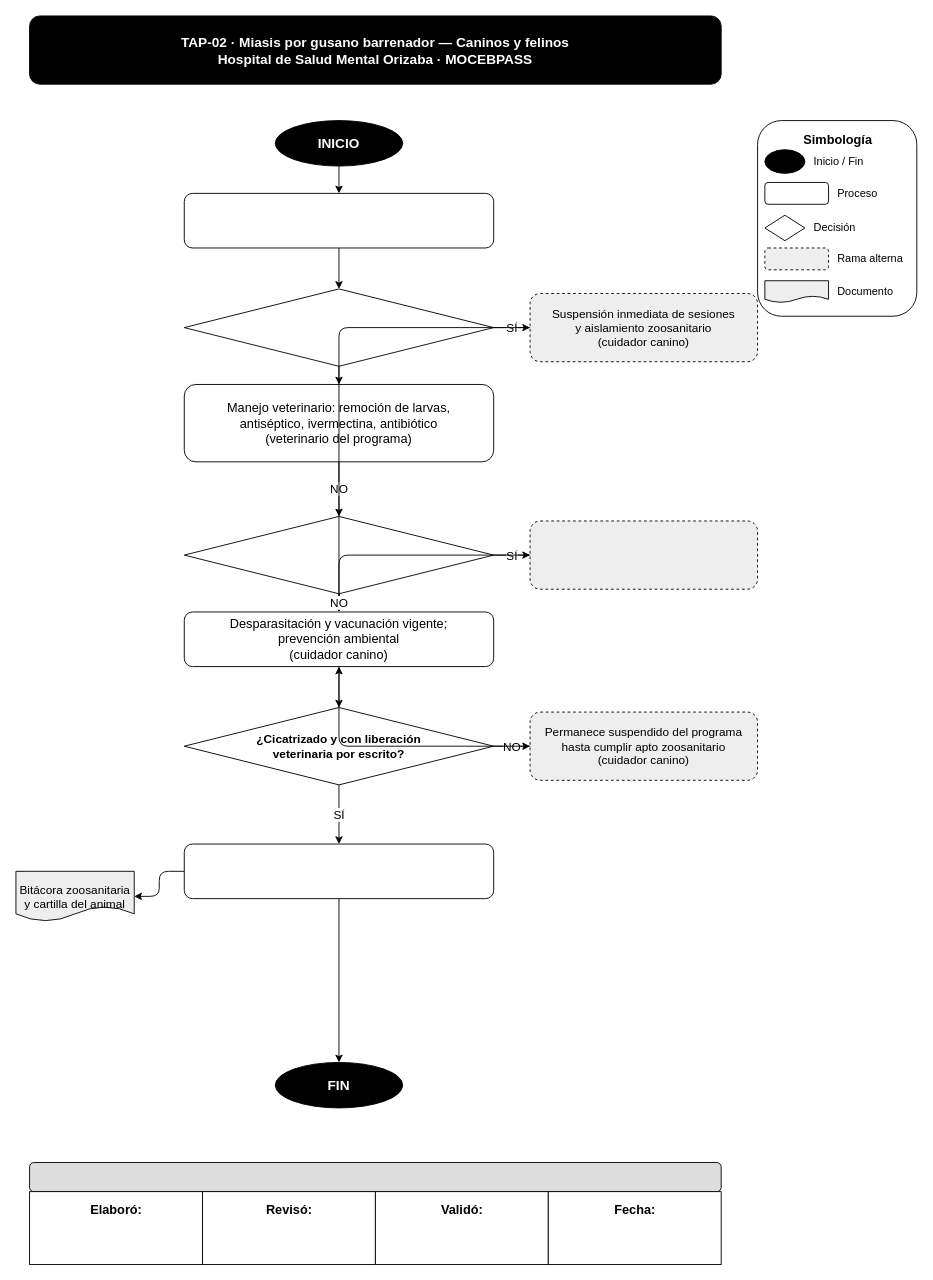
Image size: 933x1280. Some labels were removed from this diagram. Each missing label, with the box of its shape:
AUTORIZACIÓN: (29, 1162, 721, 1192)
Inspección corporal del animal antes de cada sesión (cuidador canino): (183, 192, 494, 248)
Notificación inmediata a SENASICA/CNMVB en ≤ 24 h (veterinario del programa): (529, 520, 758, 589)
Reincorporación al programa (cuidador canino): (183, 843, 494, 899)
¿Confirmado como C. hominivorax?: (183, 516, 494, 594)
¿Sospecha de miiasis? (larvas u orificios respiratorios): (183, 288, 494, 366)
